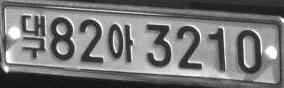0: (236, 28, 262, 74)
1: (207, 27, 232, 70)
2: (177, 25, 202, 69), (79, 18, 103, 62)
3: (146, 23, 172, 67)
8: (49, 15, 74, 60)
대구_V: (20, 14, 47, 59)
아: (107, 23, 133, 62)
